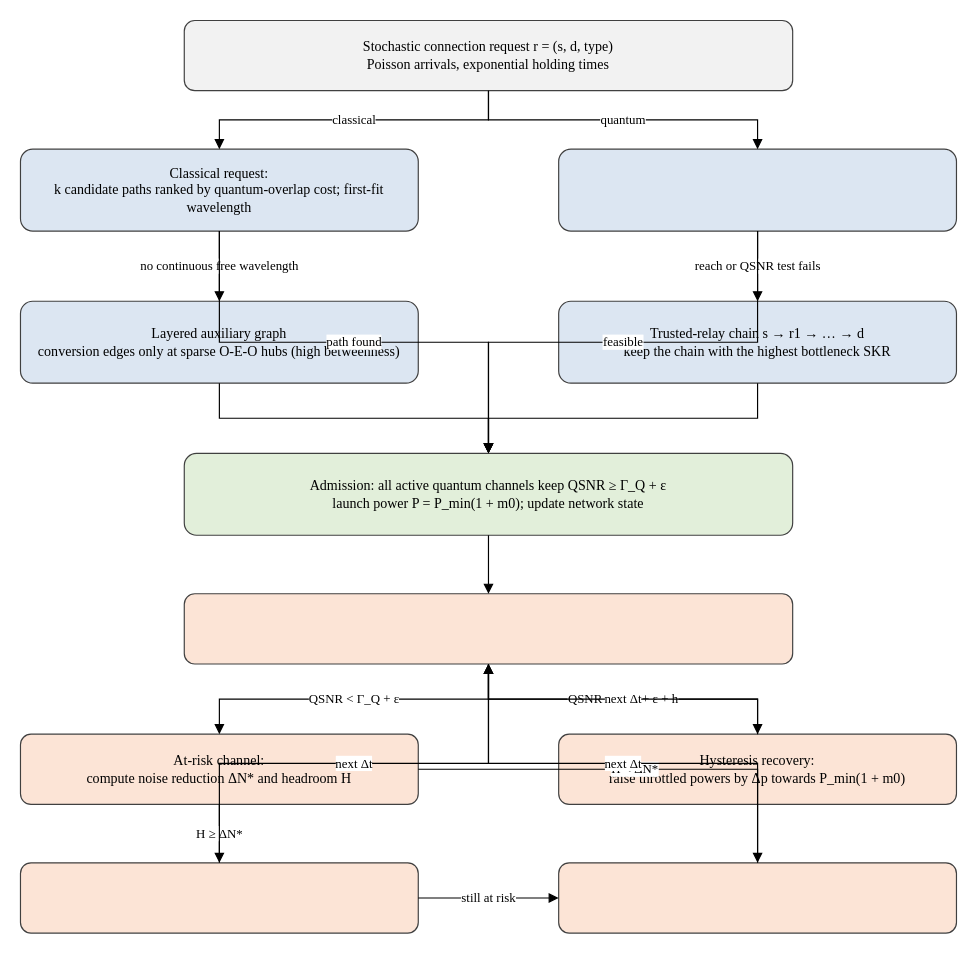
This 977x954 diagram has some shape labels left out. The centre of each missing label's shape, as x and y in pixels:
"Level 1 (H ≥ ΔN*): sensitivity-ordered power throttling" goes at (x=218, y=897).
"Level 2: make-before-break re-grooming of the dominant interferer" goes at (x=757, y=897).
"Quantum request: direct O-band lightpath; test QSNR ≥ Γ_Q + ε" goes at (x=757, y=189).
"SDN telemetry poll every Δt QSNR_q, SNR_c,s, excess loss η_c,s" goes at (x=488, y=628).
